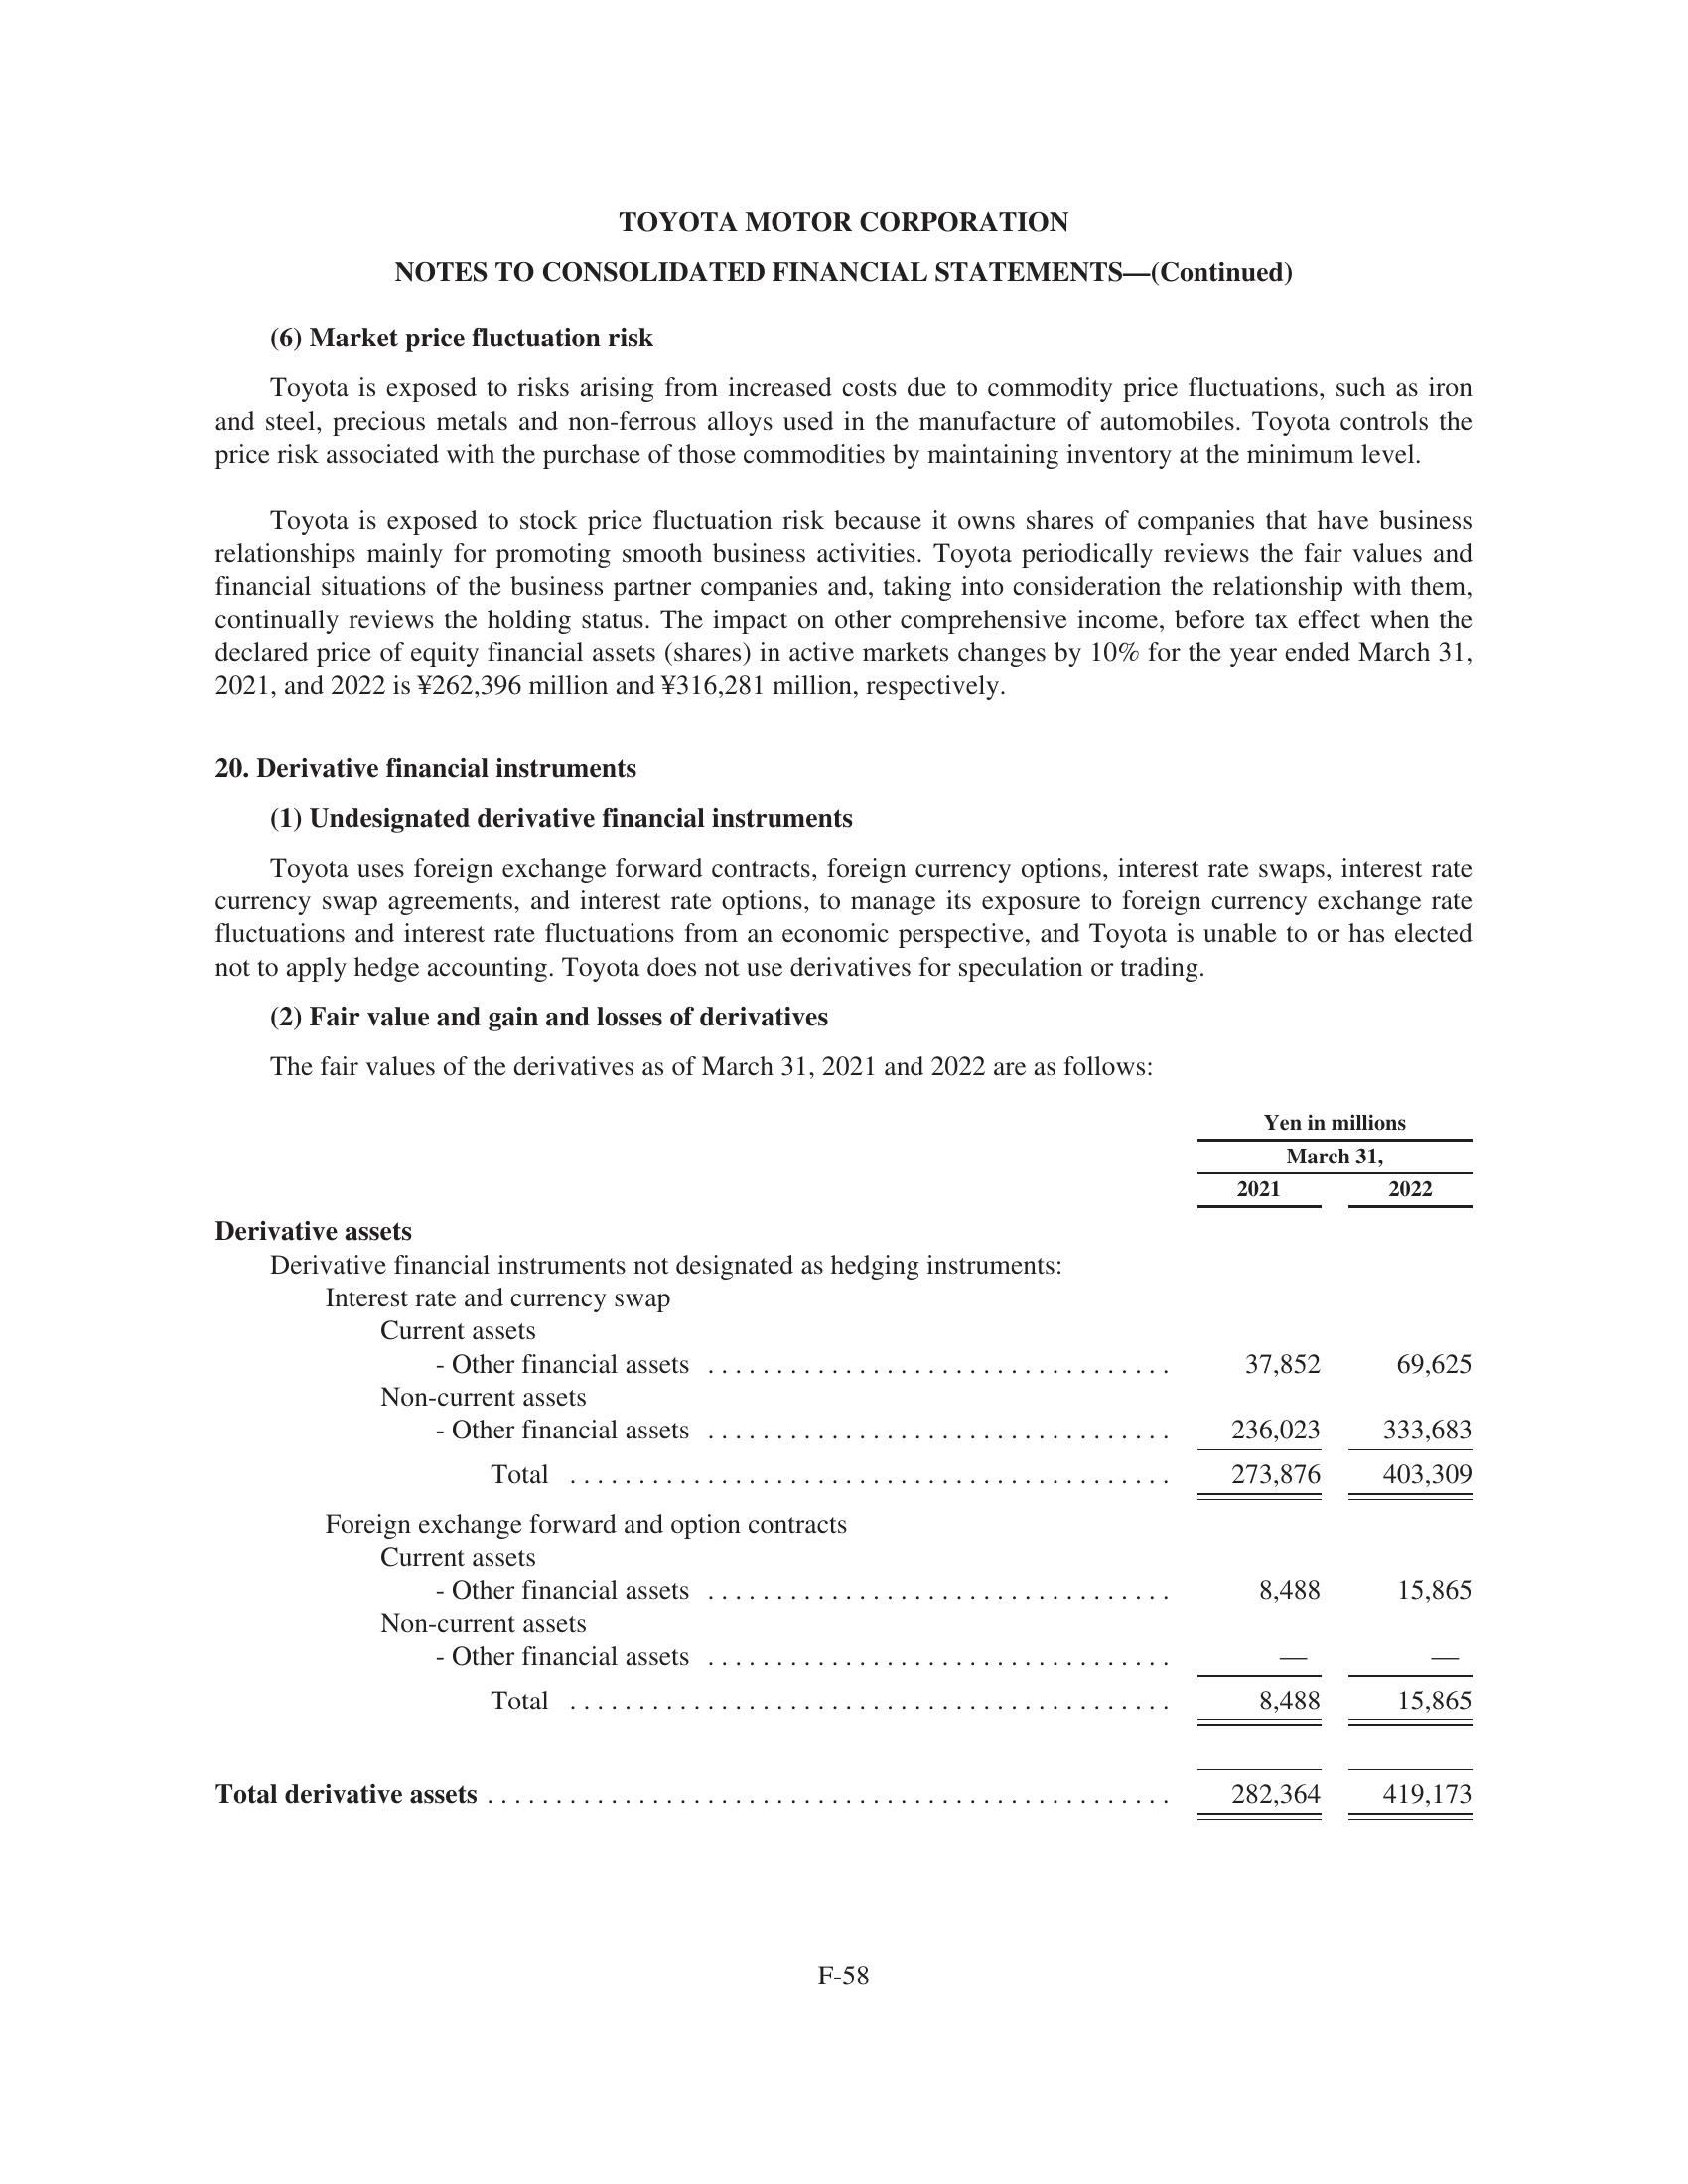Footer: (0, 1946, 1688, 2184)
Header: (0, 0, 1688, 175)
Table: (154, 1094, 1525, 1835)
